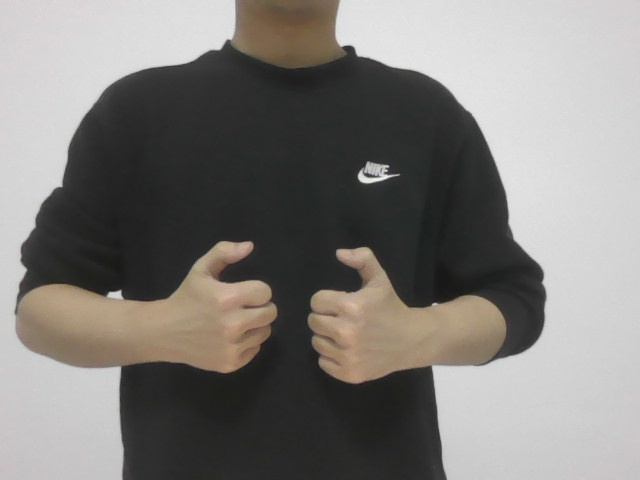marry/wife: (134, 224, 416, 385)
